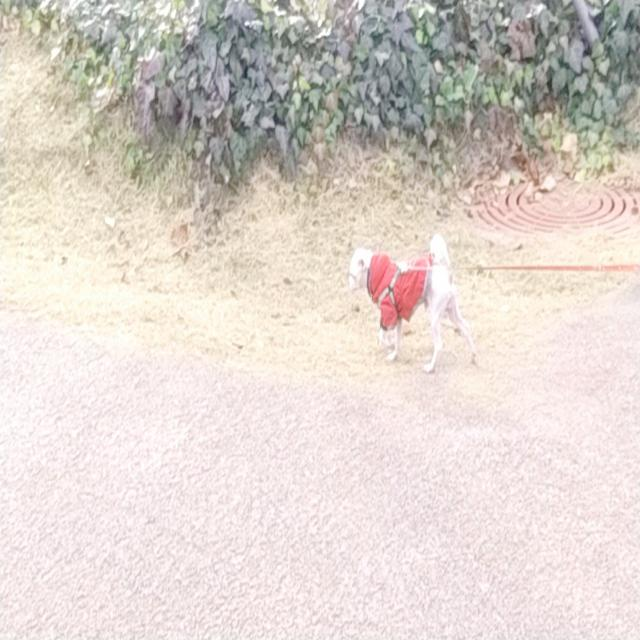Dog: (349, 234, 477, 374)
